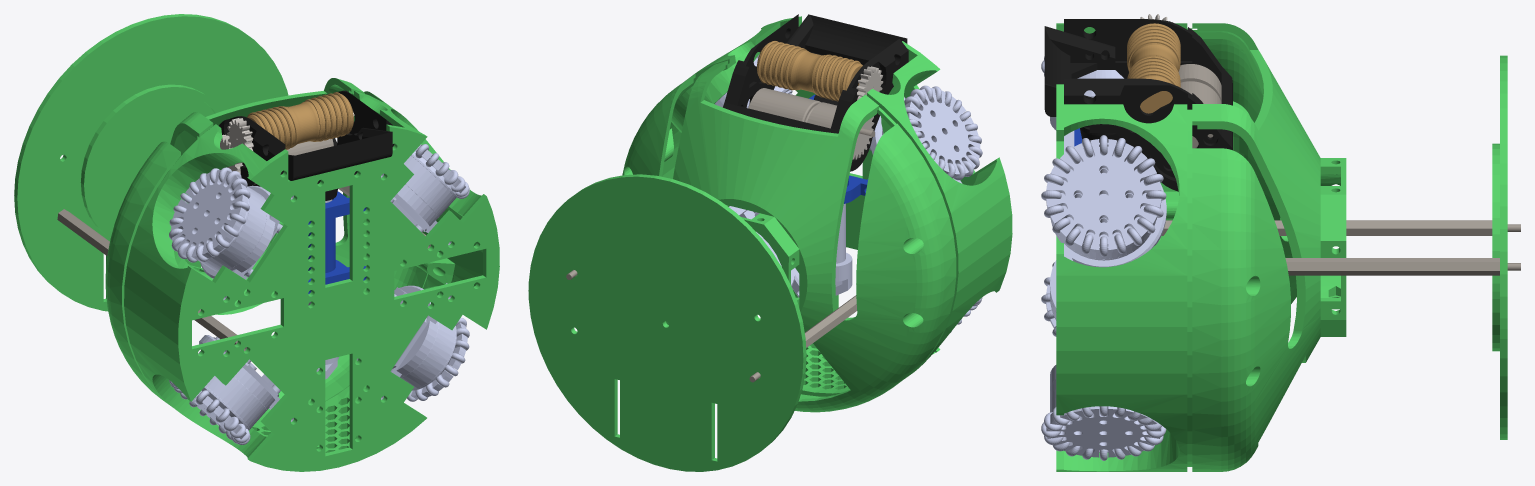
The model's file is robot.obj.
3 views of the same model, side by side, from view 1: azimuth 30°, elevation 25°; view 2: azimuth 150°, elevation 25°; view 3: azimuth 270°, elevation 25° (orthographic). The views are drawn at different scales.
Visible parts, largest first — view 1: obj7, obj13, obj22, obj10, obj8, obj14, obj9, obj16, obj1, obj3, obj4, obj12 (+5 smaller); view 2: obj13, obj22, obj7, obj4, obj10, obj8, obj1, obj5, obj24, obj20, obj6, obj14; view 3: obj22, obj7, obj15, obj4, obj18, obj13, obj23, obj8, obj1, obj3, obj24, obj5.
Part boxes in pixels (x1,y1,x2,y2): obj7: (124,90,499,471); obj13: (14,14,288,311); obj22: (105,78,427,422); obj10: (169,167,250,262); obj8: (247,92,353,149); obj14: (357,283,456,399); obj9: (198,185,293,300); obj16: (198,335,293,430); obj1: (288,127,392,180); obj3: (381,151,456,245); obj4: (219,90,394,186); obj12: (308,191,366,293); obj13: (528,174,806,471); obj22: (622,60,956,412); obj7: (662,16,1012,396); obj4: (723,14,908,171); obj10: (904,85,982,180); obj8: (757,41,862,101); obj1: (786,14,907,64); obj5: (748,88,874,136); obj24: (749,295,856,382); obj20: (835,252,852,295); obj6: (856,66,883,100); obj14: (729,206,799,297); obj22: (1192,23,1346,471); obj7: (1056,23,1192,471); obj15: (1041,135,1166,256); obj4: (1064,19,1232,191); obj18: (1041,406,1166,460); obj13: (1492,55,1507,439); obj23: (1285,258,1520,275); obj8: (1127,23,1180,113); obj1: (1044,26,1115,116); obj3: (1050,131,1166,267); obj24: (1161,220,1520,235); obj5: (1178,64,1221,148).
Size of the model in its own units: 0.175 by 0.1735 by 0.187.
